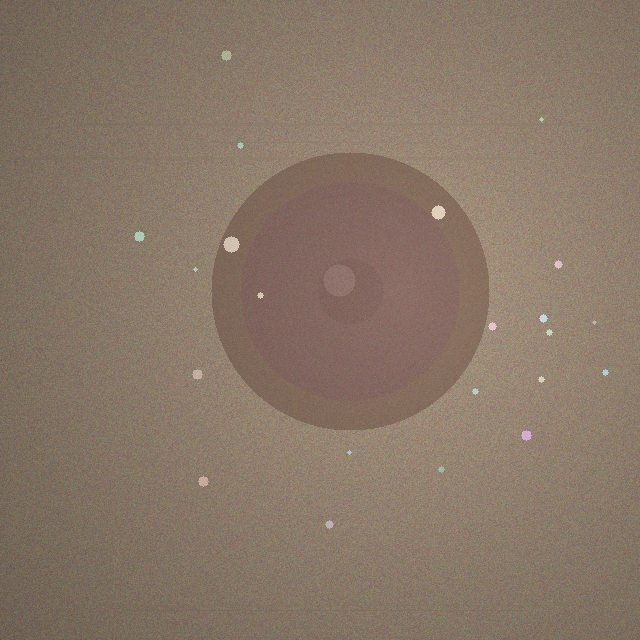overburn: (211, 152, 489, 430)
